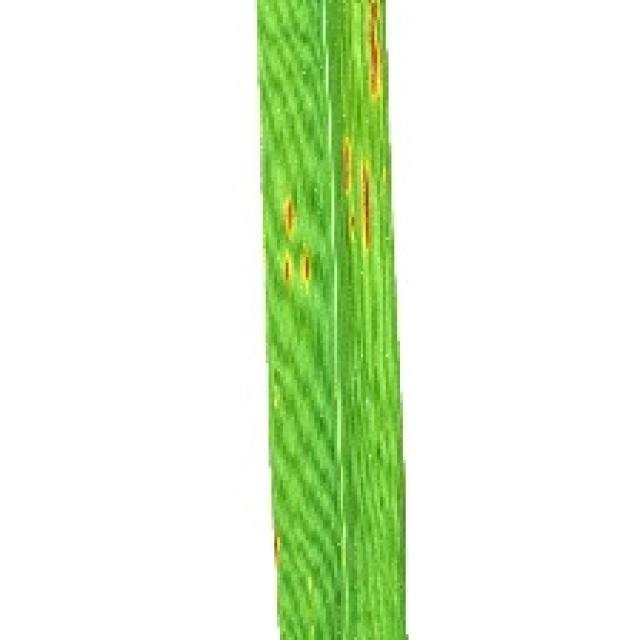Unhealthy: (364, 0, 385, 100), (359, 161, 371, 249), (283, 196, 297, 236), (342, 137, 351, 194), (302, 254, 311, 288), (284, 254, 294, 284), (275, 531, 282, 563), (347, 214, 355, 231)
